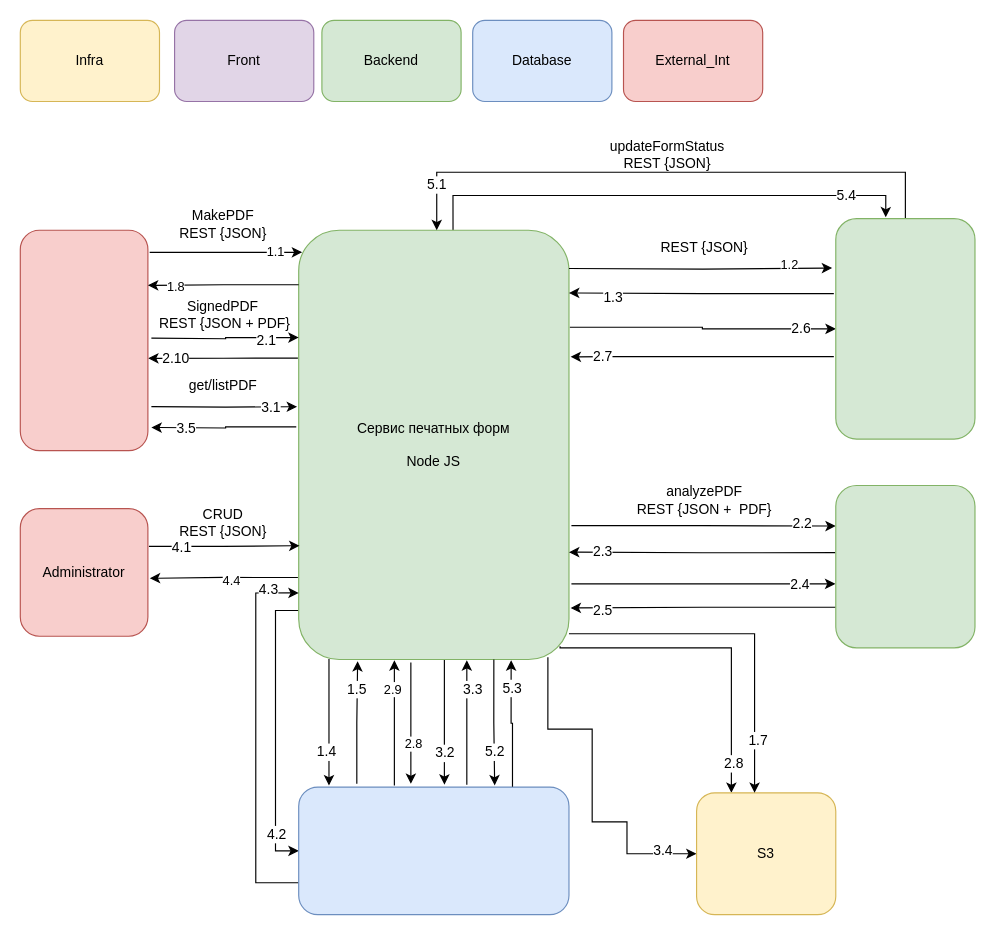
This 995x935 diagram has some shape labels left out. Here are the shapes that lost their labels. From the top down, the centre of each, then its label:
(83,340): Client
(905,328): 1C:ДО
(905,566): Сервис анализа печатных форм Node JS
(433,850): PG
